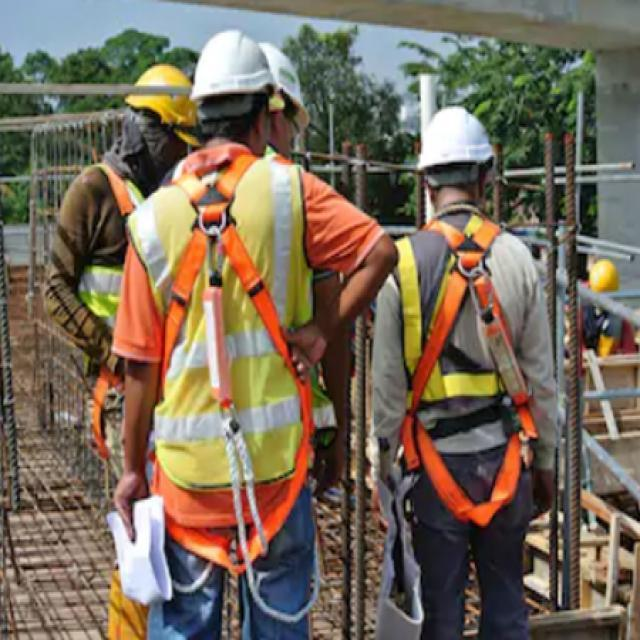belt: (172, 168, 284, 416), (415, 214, 527, 434)
